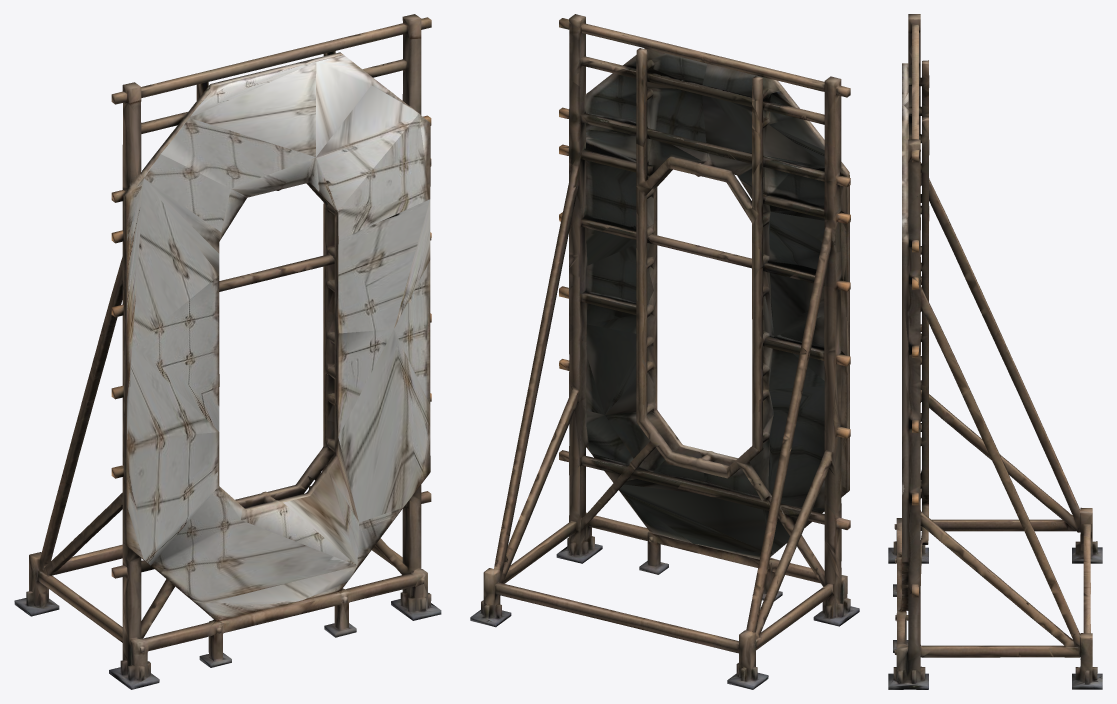
The model's file is sign-letter-O.glb.
The picture shows the model from 3 angles, left to right: view 1: azimuth 30°, elevation 25°; view 2: azimuth 150°, elevation 25°; view 3: azimuth 270°, elevation 25°; orthographic projection. The views are drawn at different scales.
Parts seen in each view (by area): view 1: model; view 2: model; view 3: model.
Boxes of the visible parts, x1=… form: model: x1=14, y1=14, x2=441, y2=689; model: x1=470, y1=14, x2=859, y2=689; model: x1=888, y1=14, x2=1102, y2=689.
Size of the model in its own units: 7.52 by 13.4 by 4.82.
1 material, 1 textured.
